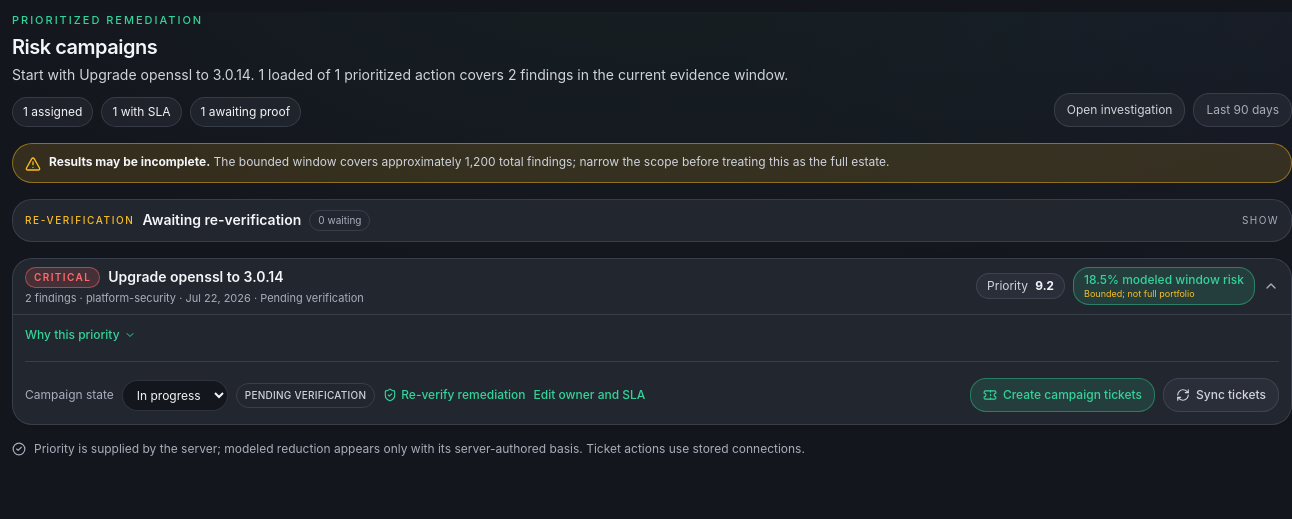
Scenario: RiskCampaignCommandCenter › re-verifies against server-owned canonical evidence and renders remaining evidence
Expected: the heading "Upgrade openssl to 3.0.14" is shown, [108, 267, 284, 287]
What coordinates should you click on to do the following:
click the button "Re-verify remediation"
I would click on:
 (454, 395)
Its box is [383, 387, 526, 403].
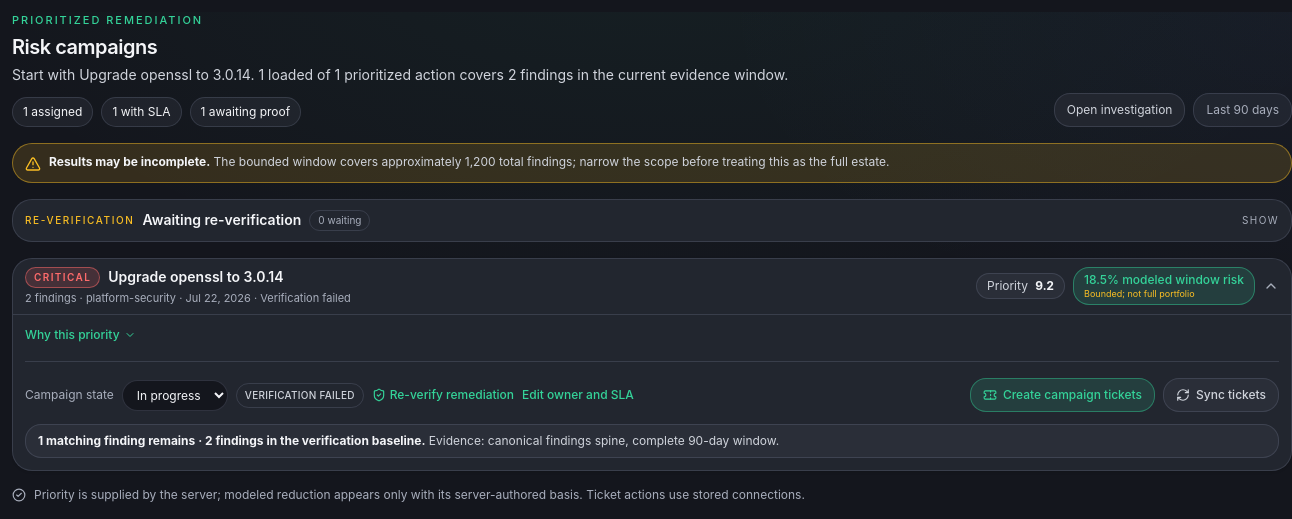
Now the text "1 matching finding remains" is shown, box [38, 433, 425, 448]
Now the text "canonical findings spine" is shown, box [488, 433, 625, 448]
Now the text "Verification failed" is shown, box [260, 290, 351, 304]
